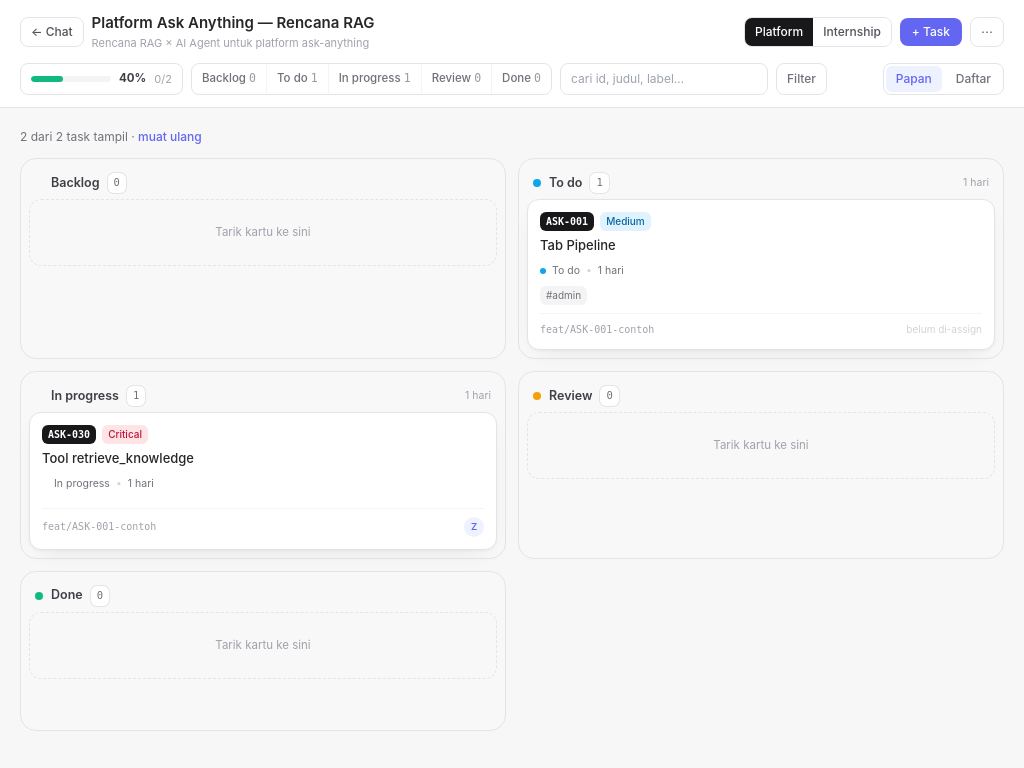
Scenario: TasksConsole — halaman /tasks › berpindah papan memuat trek yang baru, bukan trek sebelumnya
Expected: the heading "Tab Pipeline" is shown, [540, 237, 616, 253]
Click the button "Internship" at coordinates (852, 32), box [813, 18, 891, 46]
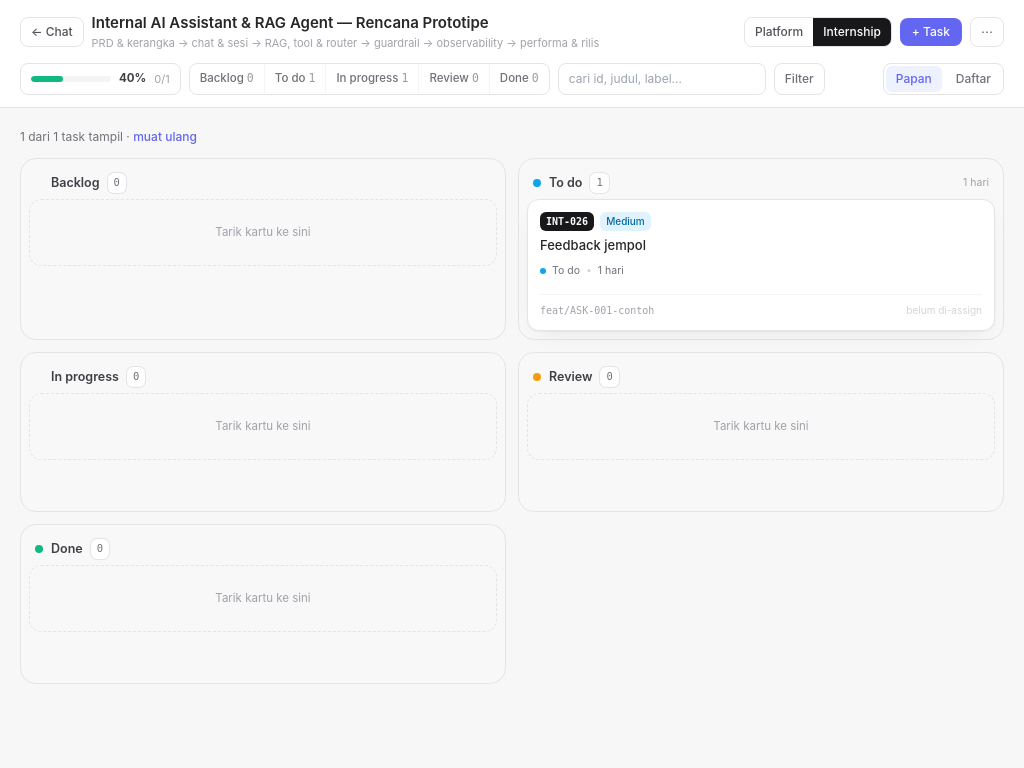
Expected: the heading "Feedback jempol" is shown, [540, 237, 646, 253]
Expected: the button "Tab Pipeline" is gone
